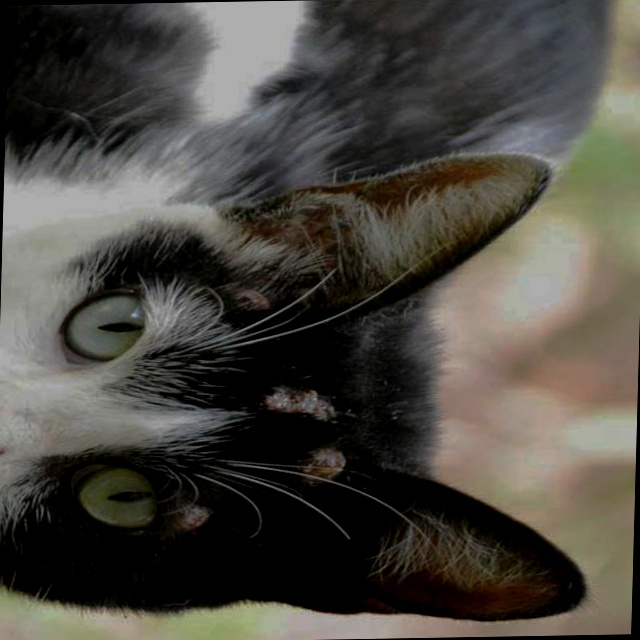lump_and_bump: (263, 386, 325, 418), (304, 456, 342, 483), (180, 507, 211, 533), (237, 290, 267, 310)
